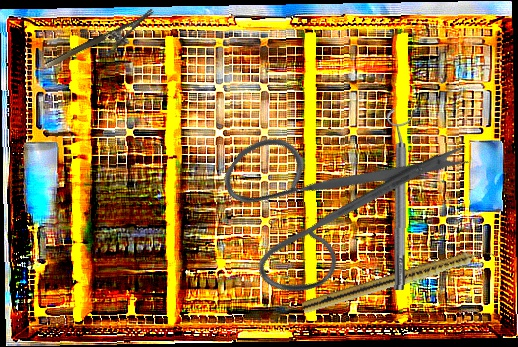Fixation Ring: (383, 108, 416, 291)
Handpiece: (300, 243, 496, 318)
Iris Scissors: (187, 41, 478, 341)
Needle Holder: (42, 8, 164, 84)
